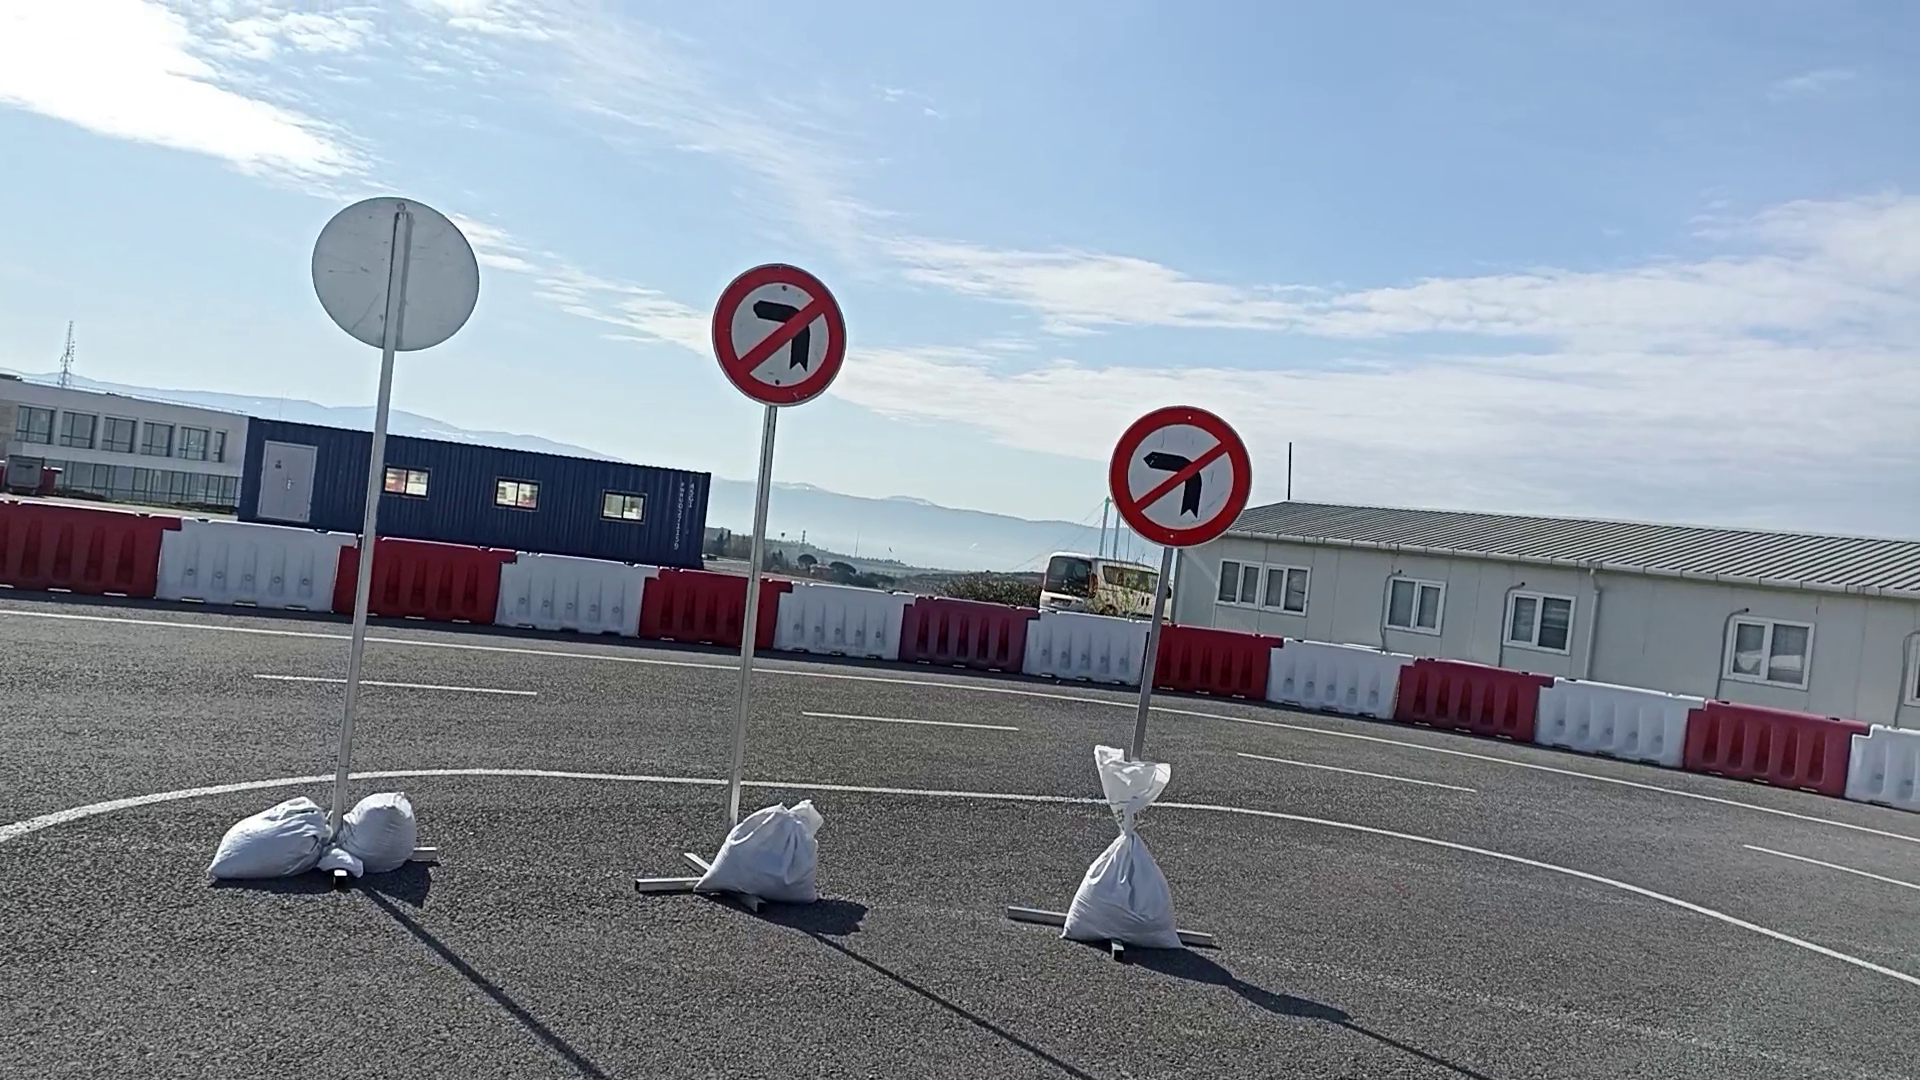noleft: (1105, 404, 1253, 549), (708, 258, 851, 409)
